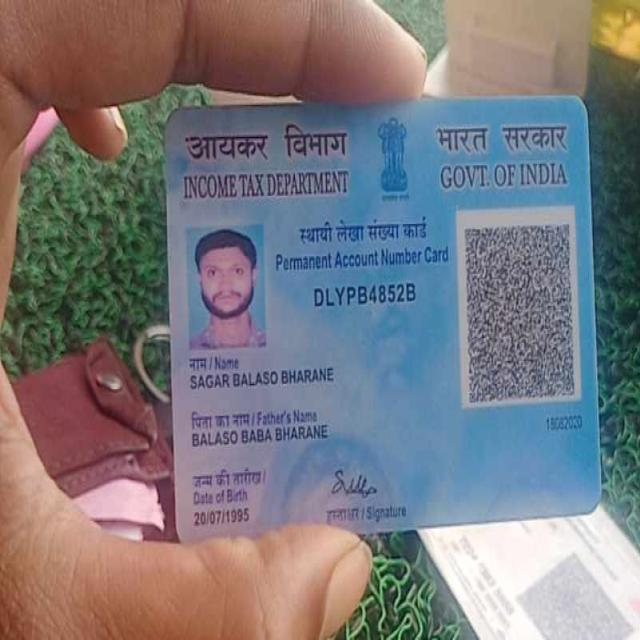pan_card: (165, 97, 599, 546)
